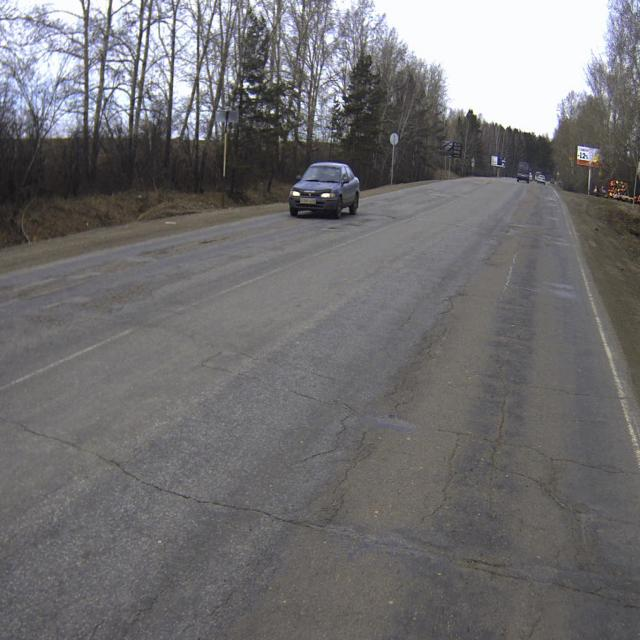road: (0, 177, 640, 639)
